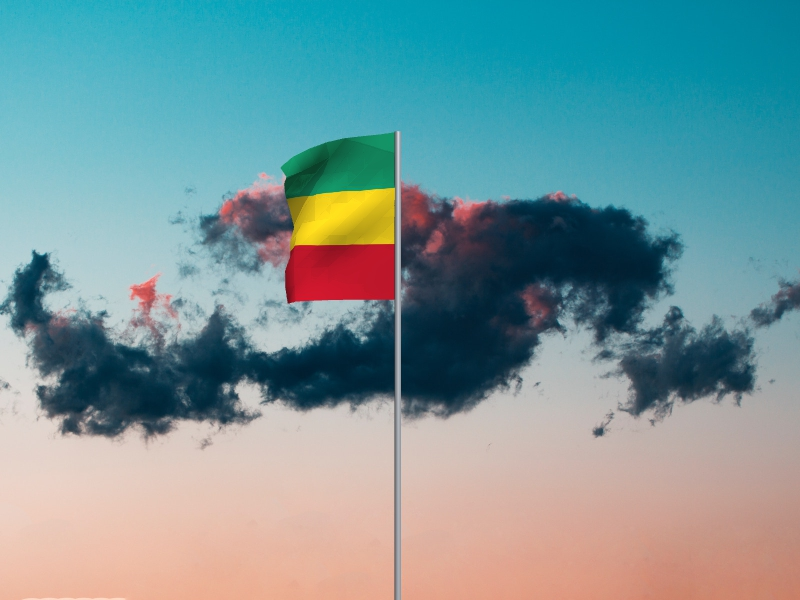gn: (279, 133, 395, 306)
